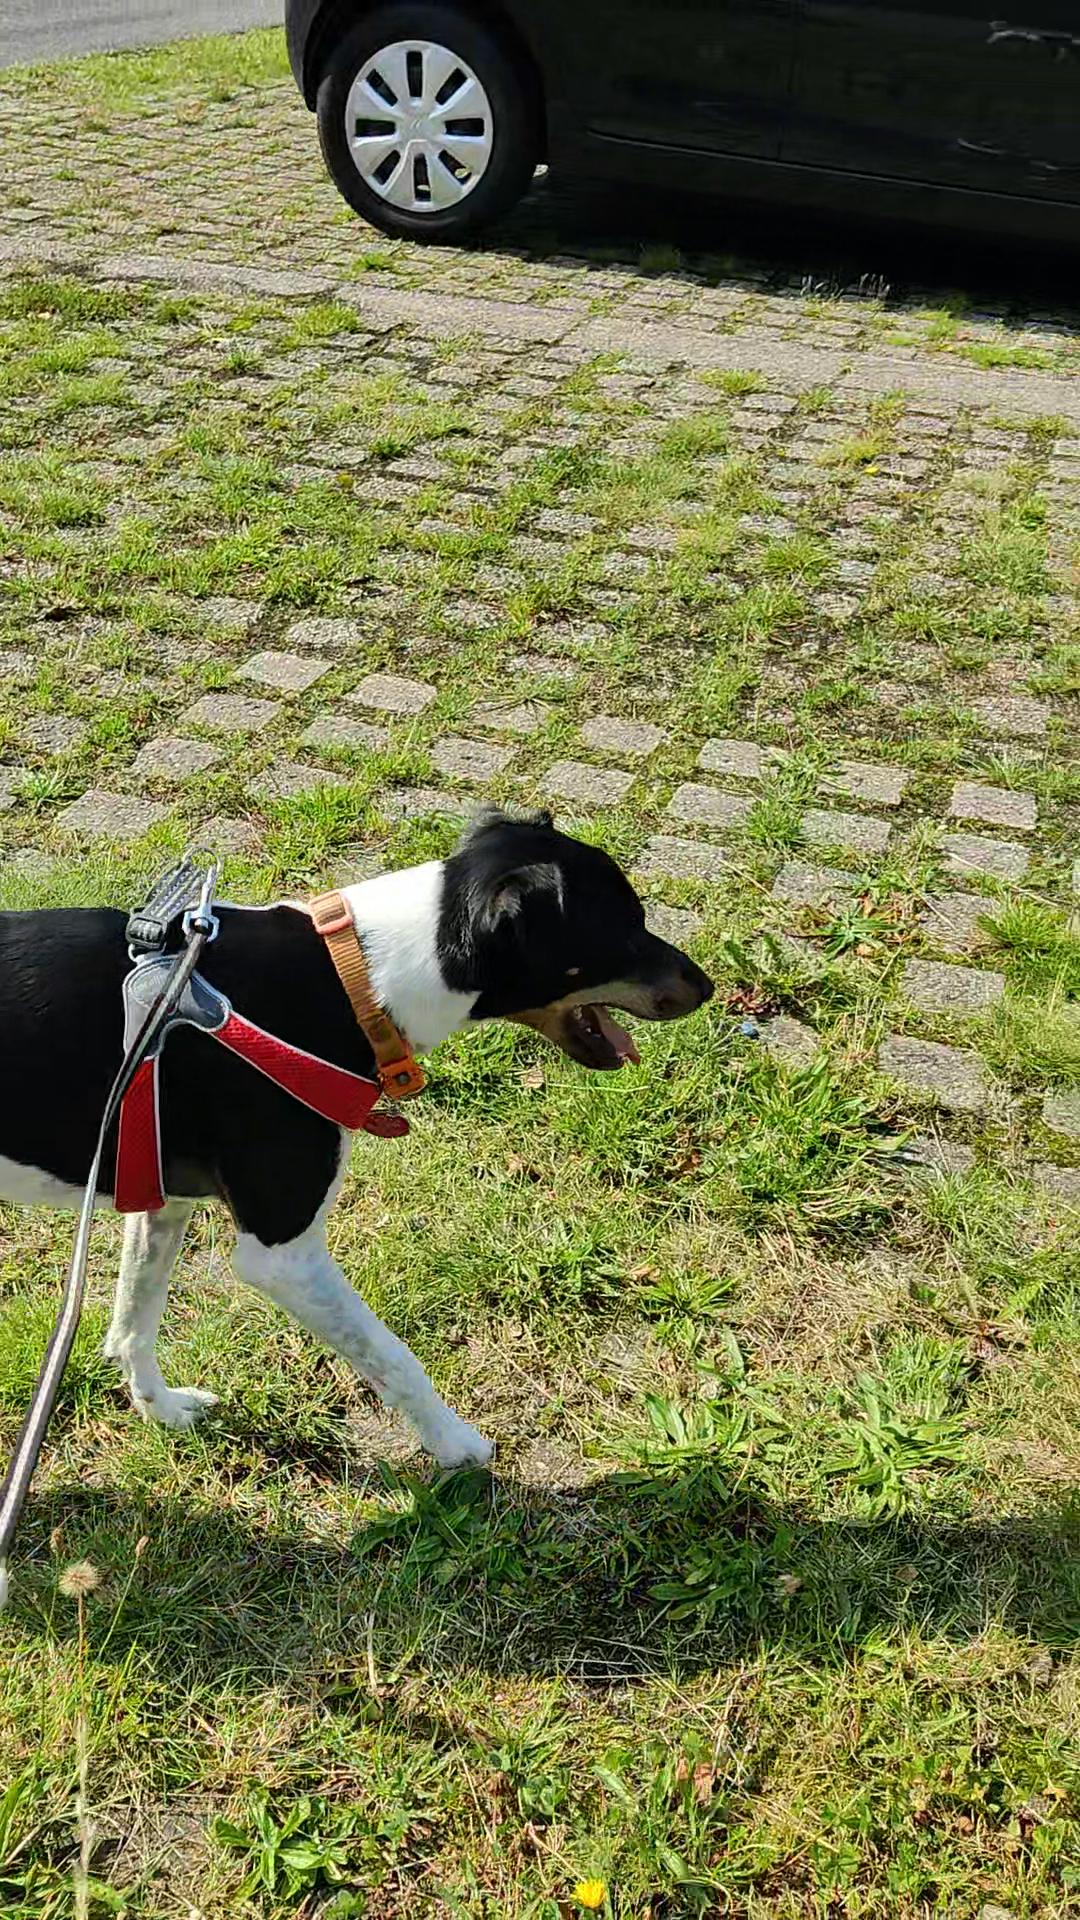Dog: (0, 790, 723, 1478)
